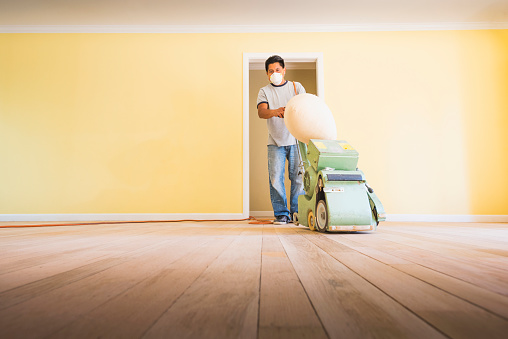em pe: (255, 62, 297, 218)
